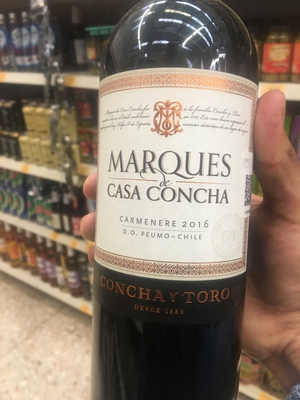marques de casa concha carmenere: (88, 14, 267, 374)
